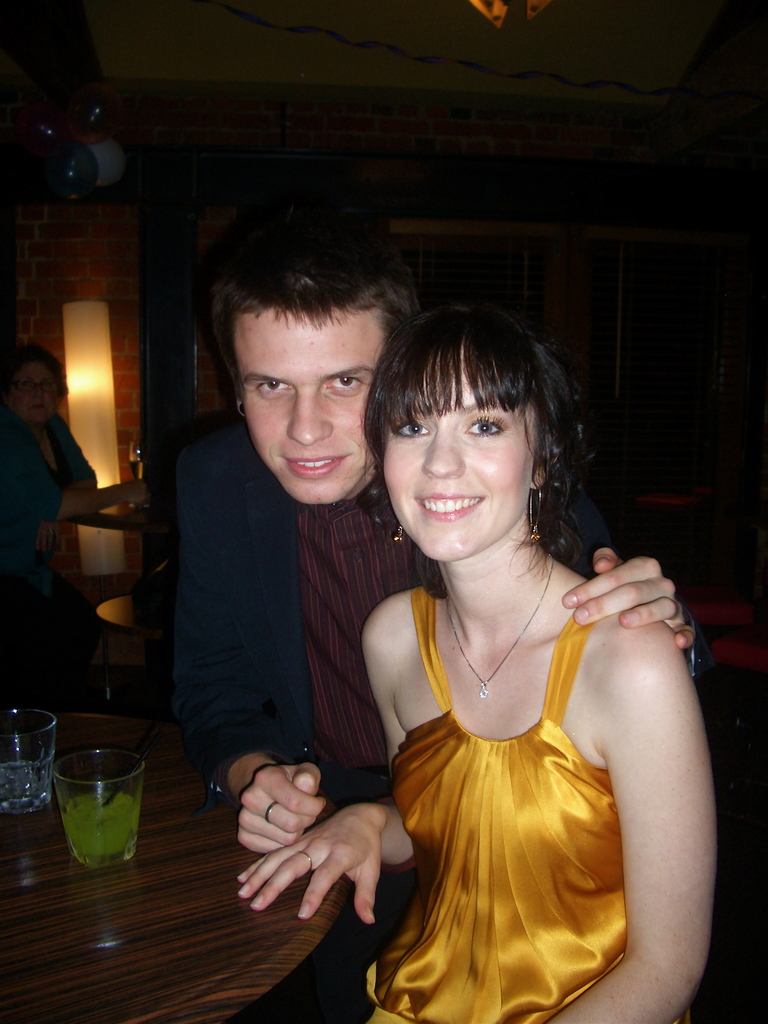Human_hand: (240, 774, 413, 924), (561, 548, 696, 655), (234, 769, 329, 856)
